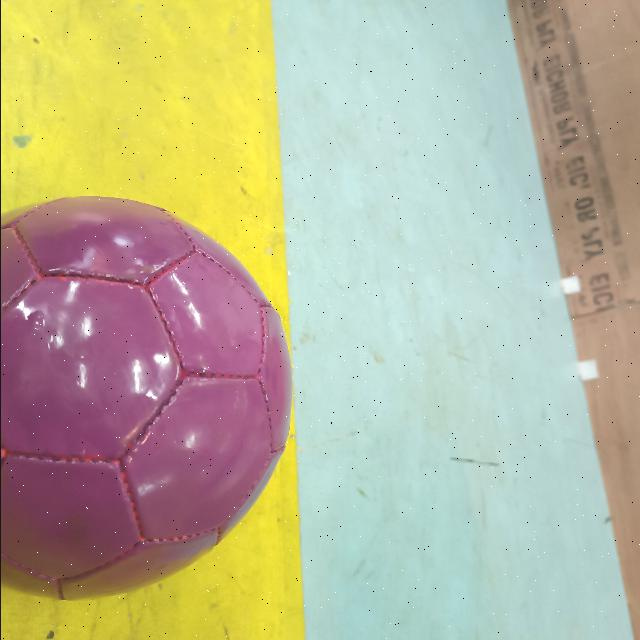P: (0, 192, 298, 604)
